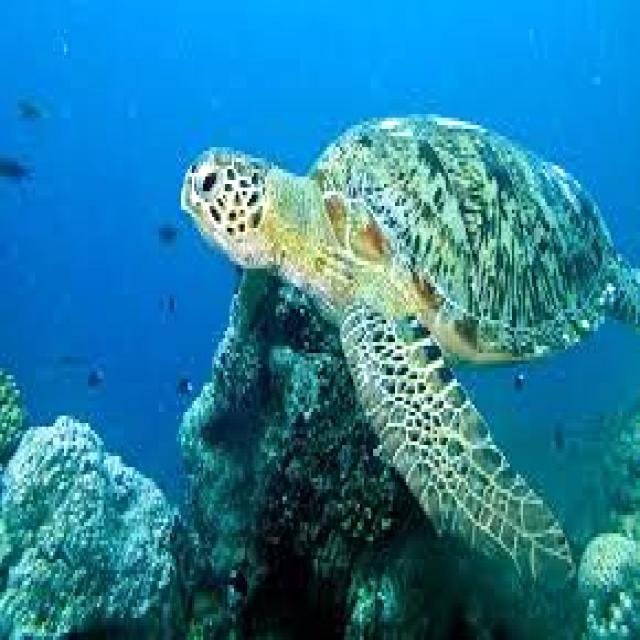Sea turtle: (187, 92, 640, 590)
